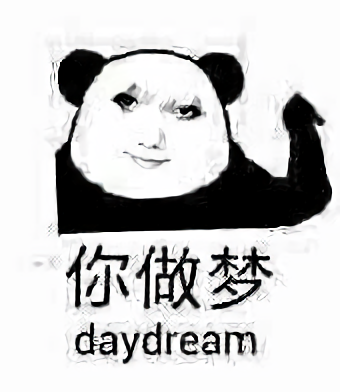dragon: (107, 85, 211, 173)
